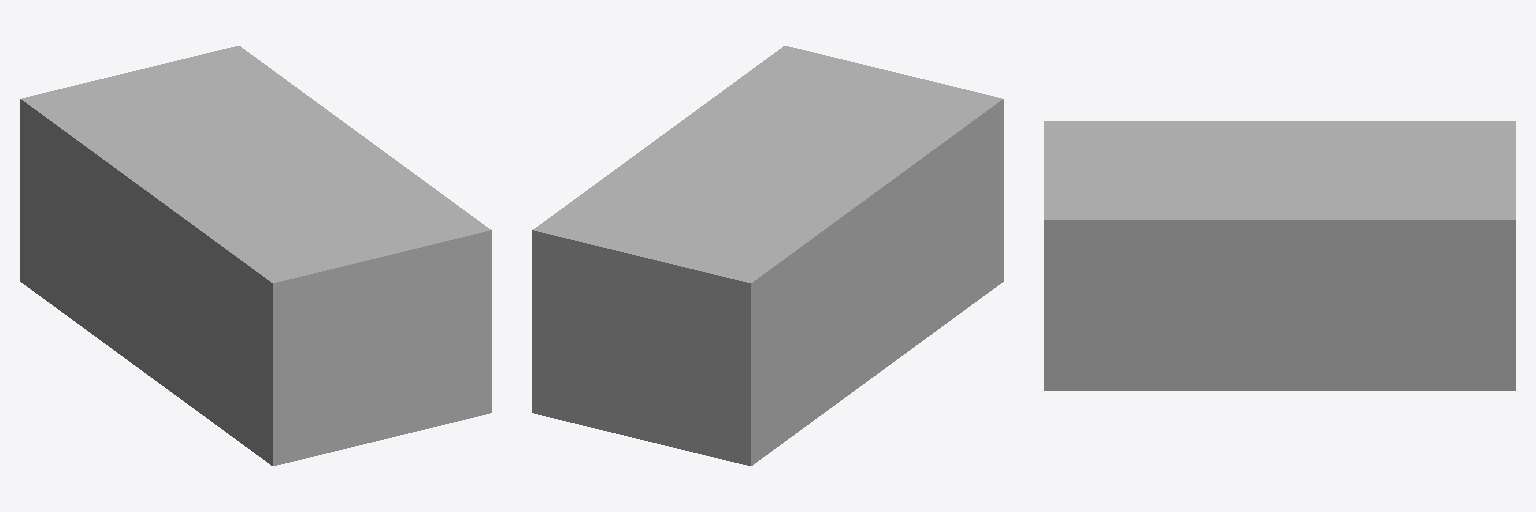
URDF robot description (deli_robo):
<?xml version="1.0" encoding="utf-8"?>
<!-- This URDF was automatically created by SolidWorks to URDF Exporter! Originally created by [author] ([email redacted]) 
     Commit Version: 1.6.0-1-g15f4949  Build Version: 1.6.7594.29634
     For more information, please see http://wiki.ros.org/sw_urdf_exporter -->
<robot
  name="deli_robo">
  <link
    name="base_link">
    <inertial>
      <origin
        xyz="-0.037666 0.19446 0.026"
        rpy="0 0 0" />
      <mass
        value="3" />
      <inertia
        ixx="0"
        ixy="0"
        ixz="0"
        iyy="0"
        iyz="0"
        izz="0" />
    </inertial>
    <visual>
      <origin
        xyz="0 0 0"
        rpy="0 0 0" />
      <geometry>
        <box size=".1 .2 .08"/>
      </geometry>
      <material
        name="">
        <color
          rgba="0.75294 0.75294 0.75294 1" />
      </material>
    </visual>
    <collision>
      <origin
        xyz="0 0 0"
        rpy="0 0 0" />
      <geometry>
        <box size=".1 .2 .08"/>   
      </geometry>
    </collision>
  </link>
  <link
    name="wheel_back_left_link">
    <inertial>
      <origin
        xyz="2.6757E-09 2.4819E-09 -0.010577"
        rpy="0 0 0" />
      <mass
        value="0.6" />
      <inertia
        ixx="0.0033232"
        ixy="-1.1337E-08"
        ixz="8.1177E-11"
        iyy="0.0033232"
        iyz="-6.1399E-11"
        izz="0.0061353" />
    </inertial>
    <visual>
      <origin
        xyz="0 0 0"
        rpy="0 0 0" />
      <geometry>
        <mesh
          filename="package://deli_robo/meshes/wheels.STL" />
      </geometry>
      <material
        name="">
        <color
          rgba="0.75294 0.75294 0.75294 1" />
      </material>
    </visual>
    <collision>
      <origin
        xyz="0 0 0"
        rpy="0 0 0" />
      <geometry>
        <mesh
          filename="package://deli_robo/meshes/wheels.STL" />
      </geometry>
    </collision>
  </link>
  <joint
    name="joint_wheel_back_left"
    type="continuous">
    <origin
      xyz="-0.23154 0.2955 0.06"
      rpy="1.5708 0 3.1416" />
    <parent
      link="base_link" />
    <child
      link="wheel_back_left_link" />
    <axis
      xyz="0 0 -1" />
  </joint>
  <link
    name="wheel_back_right_link">
    <inertial>
      <origin
        xyz="3.5038E-09 1.021E-09 0.010577"
        rpy="0 0 0" />
      <mass
        value="0.6" />
      <inertia
        ixx="0.0033232"
        ixy="-9.3654E-09"
        ixz="1.0986E-11"
        iyy="0.0033232"
        iyz="-1.0119E-10"
        izz="0.0061353" />
    </inertial>
    <visual>
      <origin
        xyz="0 0 0"
        rpy="0 0 0" />
      <geometry>
        <mesh
          filename="package://deli_robo/meshes/wheels.STL" />
      </geometry>
      <material
        name="">
        <color
          rgba="0.75294 0.75294 0.75294 1" />
      </material>
    </visual>
    <collision>
      <origin
        xyz="0 0 0"
        rpy="0 0 0" />
      <geometry>
        <mesh
          filename="package://deli_robo/meshes/wheels.STL" />
      </geometry>
    </collision>
  </link>
  <joint
    name="joint_wheel_back_right"
    type="continuous">
    <origin
      xyz="-0.23154 -0.2955 0.06"
      rpy="1.5708 0 3.1416" />
    <parent
      link="base_link" />
    <child
      link="wheel_back_right_link" />
    <axis
      xyz="0 0 1" />
  </joint>
  <link
    name="wheel_front_left_link">
    <inertial>
      <origin
        xyz="2.2922E-08 -3.5373E-10 0.00086907"
        rpy="0 0 0" />
      <mass
        value="0.6" />
      <inertia
        ixx="0.00054477"
        ixy="1.164E-11"
        ixz="5.0249E-11"
        iyy="0.00054477"
        iyz="2.8527E-12"
        izz="0.0010243" />
    </inertial>
    <visual>
      <origin
        xyz="0 0 0"
        rpy="0 0 0" />
      <geometry>
        <mesh
          filename="package://deli_robo/meshes/wheels.STL" />
      </geometry>
      <material
        name="">
        <color
          rgba="0.75294 0.75294 0.75294 1" />
      </material>
    </visual>
    <collision>
      <origin
        xyz="0 0 0"
        rpy="0 0 0" />
      <geometry>
        <mesh
          filename="package://deli_robo/meshes/wheels.STL" />
      </geometry>
    </collision>
  </link>
  <joint
    name="joint_wheel_front_left"
    type="continuous">
    <origin
      xyz="0.23 0.24887 0.033"
      rpy="1.5708 0 3.1416" />
    <parent
      link="base_link" />
    <child
      link="wheel_front_left_link" />
    <axis
      xyz="0 0 -1" />
  </joint>
  <link
    name="wheel_front_right_link">
    <inertial>
      <origin
        xyz="2.2203E-08 -5.7057E-09 0.00086907"
        rpy="0 0 0" />
      <mass
        value="0.6" />
      <inertia
        ixx="0.00054477"
        ixy="2.5356E-11"
        ixz="4.9522E-11"
        iyy="0.00054477"
        iyz="-8.9807E-12"
        izz="0.0010243" />
    </inertial>
    <visual>
      <origin
        xyz="0 0 0"
        rpy="0 0 0" />
      <geometry>
        <mesh
          filename="package://deli_robo/meshes/wheels.STL" />
      </geometry>
      <material
        name="">
        <color
          rgba="0.75294 0.75294 0.75294 1" />
      </material>
    </visual>
    <collision>
      <origin
        xyz="0 0 0"
        rpy="0 0 0" />
      <geometry>
        <mesh
          filename="package://deli_robo/meshes/wheels.STL" />
      </geometry>
    </collision>
  </link>
  <joint
    name="joint_wheel_front_right"
    type="continuous">
    <origin
      xyz="0.23 -0.2595 0.033"
      rpy="1.5708 0 3.1416" />
    <parent
      link="base_link" />
    <child
      link="wheel_front_right_link" />
    <axis
      xyz="0 0 1" />
  </joint>

  <link
    name="gps_ins_point_link">
    <inertial>
      <origin
        xyz="-0.002036 -0.001601 0.004"
        rpy="0 0 0" />
      <mass
        value="0.0056708" />
      <inertia
        ixx="2.7399E-07"
        ixy="8.0779E-24"
        ixz="-1.5978E-22"
        iyy="4.8412E-07"
        iyz="-8.3674E-24"
        izz="6.9802E-07" />
    </inertial>
    <visual>
      <origin
        xyz="0 0 0"
        rpy="0 0 0" />
      <geometry>
        <mesh
          filename="package://deli_robo/meshes/gps_ins_point_link.STL" />
      </geometry>
      <material
        name="">
        <color
          rgba="1 0.50196 1 1" />
      </material>
    </visual>
    <collision>
      <origin
        xyz="0 0 0"
        rpy="0 0 0" />
      <geometry>
        <mesh
          filename="package://deli_robo/meshes/gps_ins_point_link.STL" />
      </geometry>
    </collision>
  </link>
  <joint
    name="joint_imu"
    type="fixed">
    <origin
      xyz="0 0 0.0574"
      rpy="0 0 0" />
    <parent
      link="base_link" />
    <child
      link="gps_ins_point_link" />
    <axis
      xyz="0 0 0" />
  </joint>


  <link
    name="lidar_point_link">
    <inertial>
      <origin
        xyz="-0.00064383 9.2927E-10 0.037832"
        rpy="0 0 0" />
      <mass
        value="0.22916" />
      <inertia
        ixx="0.00020894"
        ixy="1.295E-12"
        ixz="-1.1307E-06"
        iyy="0.00021335"
        iyz="-4.2308E-12"
        izz="0.00011244" />
    </inertial>
    <visual>
      <origin
        xyz="0 0 0"
        rpy="0 0 0" />
      <geometry>
        <mesh
          filename="package://deli_robo/meshes/lidar_point_link.STL" />
      </geometry>
      <material
        name="">
        <color
          rgba="0 0 0 1" />
      </material>
    </visual>
    <collision>
      <origin
        xyz="0 0 0"
        rpy="0 0 0" />
      <geometry>
        <mesh
          filename="package://deli_robo/meshes/lidar_point_link.STL" />
      </geometry>
    </collision>
  </link>
  <joint
    name="joint_lidar"
    type="fixed">
    <origin
      xyz="0.245 -0.0051 0.23"
      rpy="0 0 0" />
    <parent
      link="base_link" />
    <child
      link="lidar_point_link" />
    <axis
      xyz="0 0 0" />
  </joint>
  <link
    name="lid_container_link">
    <inertial>
      <origin
        xyz="0.29751 -0.040394 -1.3876E-07"
        rpy="0 0 0" />
      <mass
        value="1" />
      <inertia
        ixx="0.099856"
        ixy="0.022481"
        ixz="4.1838E-08"
        iyy="0.15535"
        iyz="2.9181E-08"
        izz="0.094701" />
    </inertial>
    <visual>
      <origin
        xyz="0 0 0"
        rpy="0 0 0" />
      <geometry>
        <mesh
          filename="package://deli_robo/meshes/lid_container_link.STL" />
      </geometry>
      <material
        name="">
        <color
          rgba="0 1 1 1" />
      </material>
    </visual>
    <collision>
      <origin
        xyz="0 0 0"
        rpy="0 0 0" />
      <geometry>
        <mesh
          filename="package://deli_robo/meshes/lid_container_link.STL" />
      </geometry>
    </collision>
  </link>
  <joint
    name="joint_lid"
    type="fixed">
    <origin
      xyz="0.16793 0 0.25293"
      rpy="1.5708 0 3.1416" />
    <parent
      link="base_link" />
    <child
      link="lid_container_link" />
    <axis
      xyz="0 0 1" />
  </joint>
</robot>

--- Facts derived from the render (not from the file) ---
The picture shows the robot from 3 angles, left to right: view 1: azimuth 30°, elevation 25°; view 2: azimuth 150°, elevation 25°; view 3: azimuth 270°, elevation 25°; orthographic projection.
Robot: deli_robo — 8 links, 7 joints (4 continuous, 3 fixed); root link base_link; default pose: all joints at 0.
Visible links, largest first — view 1: base_link; view 2: base_link; view 3: base_link.
Link boxes in pixels (x1,y1,x2,y2): base_link: (20,46,491,465); base_link: (532,46,1003,465); base_link: (1044,121,1515,390).
Bounding box of the posed robot: 0.1 × 0.2 × 0.08 m (x, y, z).
Meshes: 4 distinct files referenced, 0 mesh visuals loaded (none loaded); not drawn: 7 (reference not matched to a file when rendering).